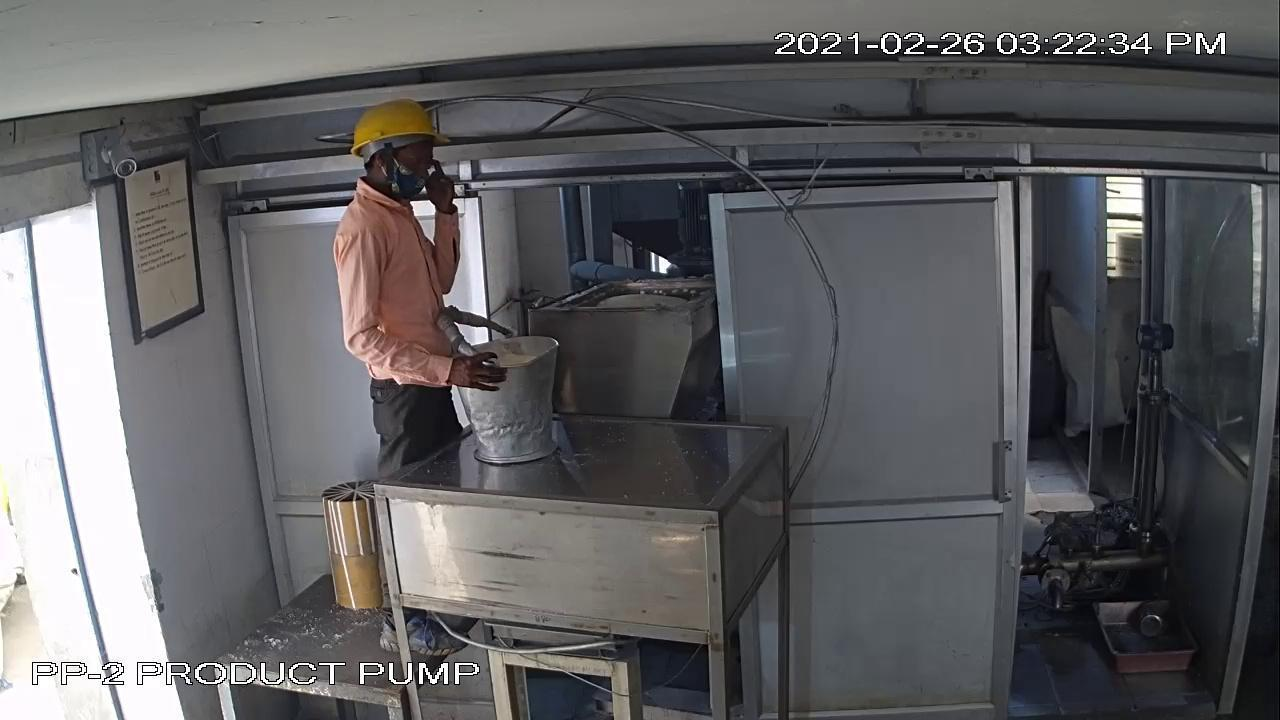helmet: (332, 96, 459, 161)
